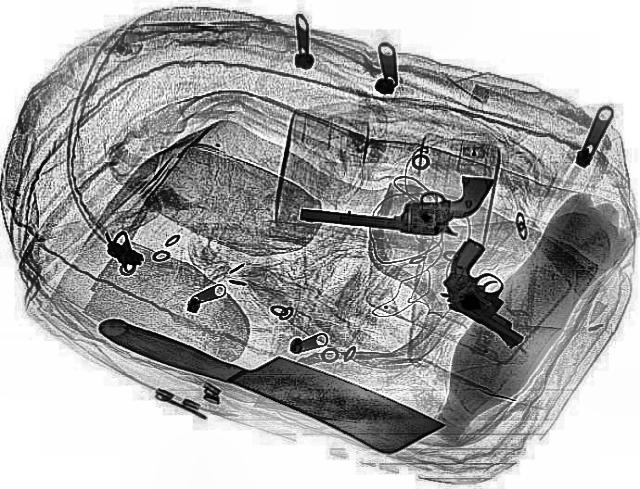Gun: (414, 234, 544, 357), (298, 176, 496, 240)
Knife: (85, 289, 448, 467)
